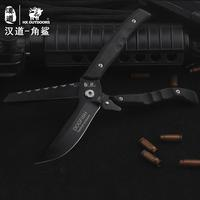knife: (27, 17, 146, 170)
